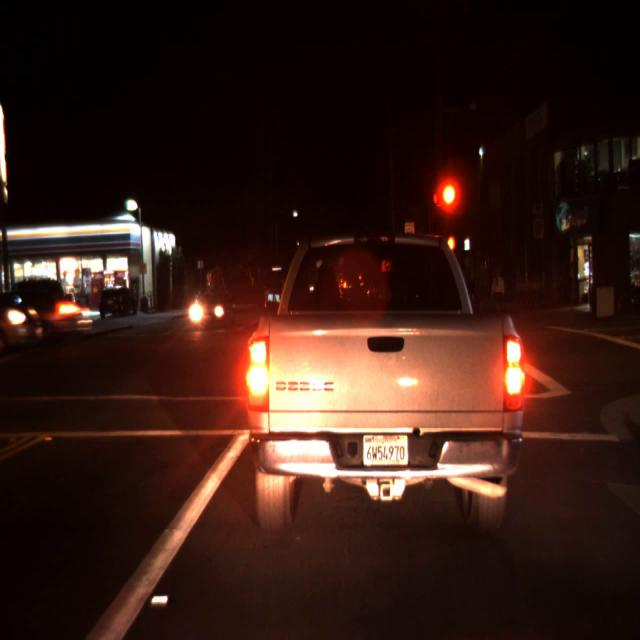stop: (439, 180, 457, 230)
stop traffic light: (439, 180, 457, 230)
